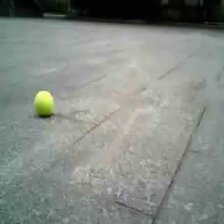tennis: (34, 92, 54, 113)
